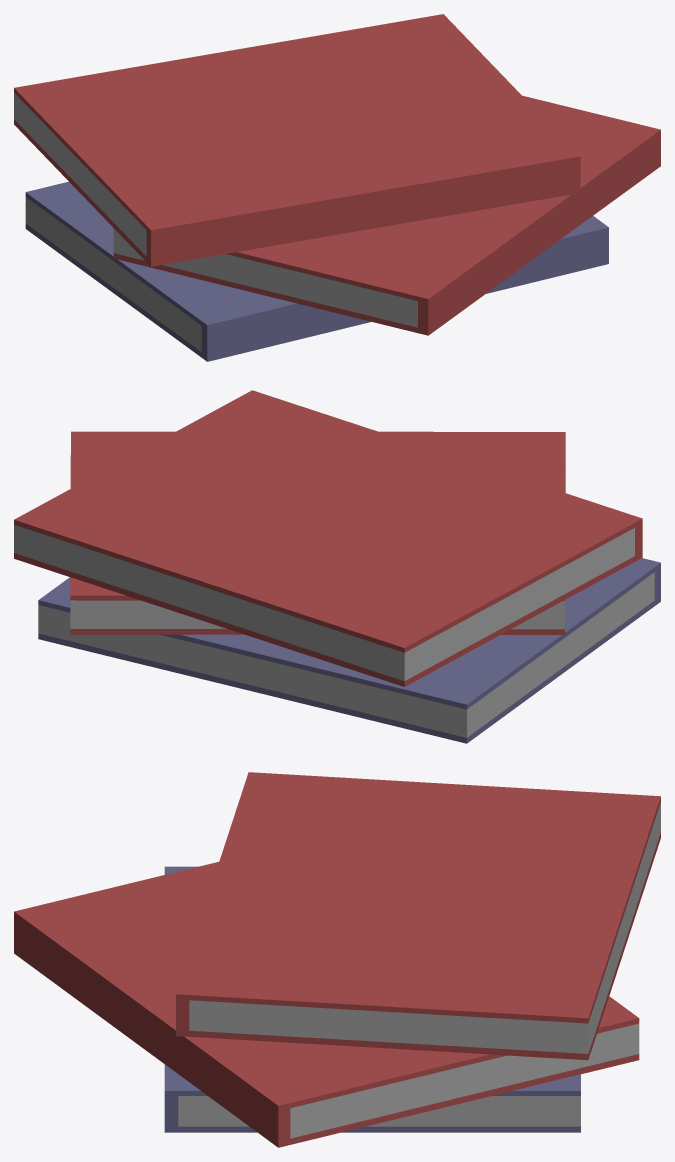
File: books.fbx
3 views of the same model, one above another, from view 1: azimuth 30°, elevation 25°; view 2: azimuth 150°, elevation 25°; view 3: azimuth 270°, elevation 25° (orthographic). The views are drawn at different scales.
Parts seen in each view (by area): view 1: books; view 2: books; view 3: books.
Part boxes in pixels (x1,y1,x2,y2): books: [14, 14, 660, 361]; books: [14, 390, 660, 743]; books: [14, 772, 660, 1147].
Bounding box in the file's own units: 0.5708 × 0.1143 × 0.5345.
